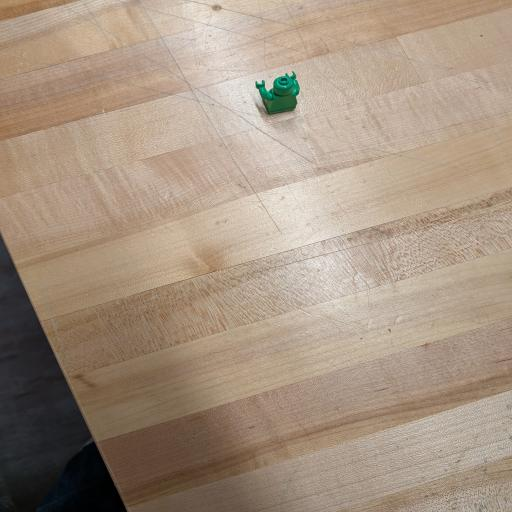Minifig: (256, 72, 300, 114)
